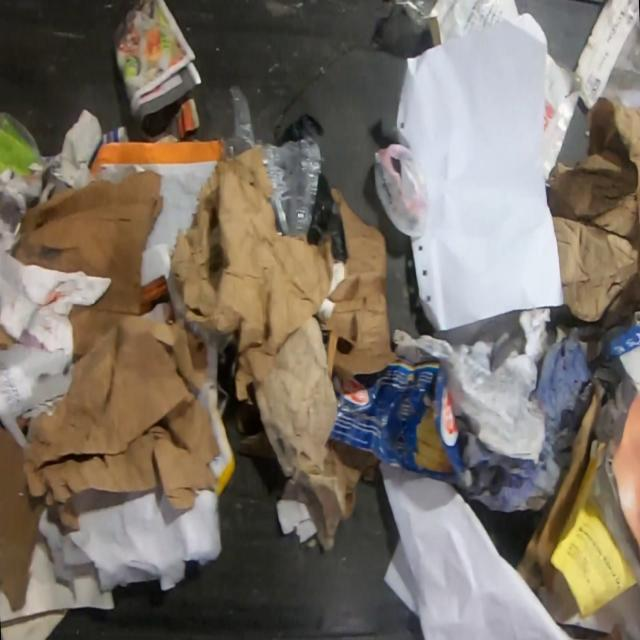cardboard: (22, 315, 221, 529), (9, 169, 162, 355), (514, 378, 606, 596), (329, 361, 464, 483), (324, 185, 394, 385), (0, 417, 43, 612), (0, 318, 26, 351)
rigid_plastic: (0, 111, 42, 175)
soft_plastic: (224, 86, 322, 237), (276, 109, 346, 260), (373, 143, 428, 239)
